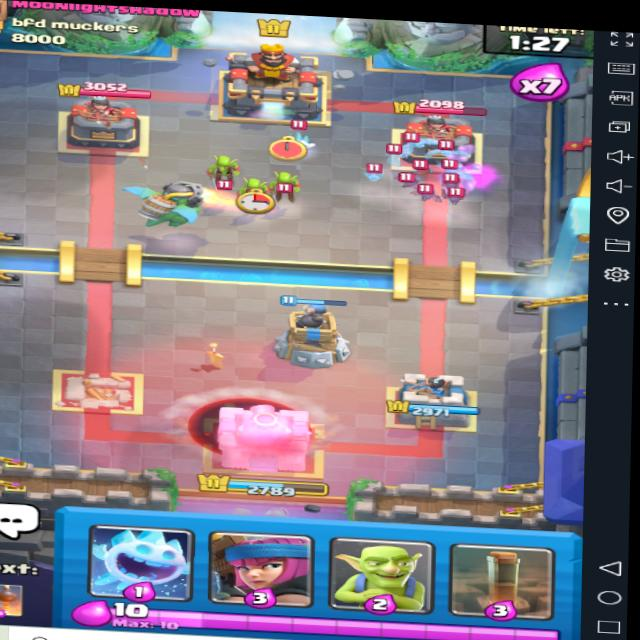bats: (395, 166, 426, 194), (411, 184, 449, 205), (443, 183, 477, 206)
goblin: (199, 148, 237, 190), (238, 171, 272, 216), (264, 168, 303, 205)
ice-spirit: (285, 122, 326, 158)
void: (170, 381, 333, 465)
